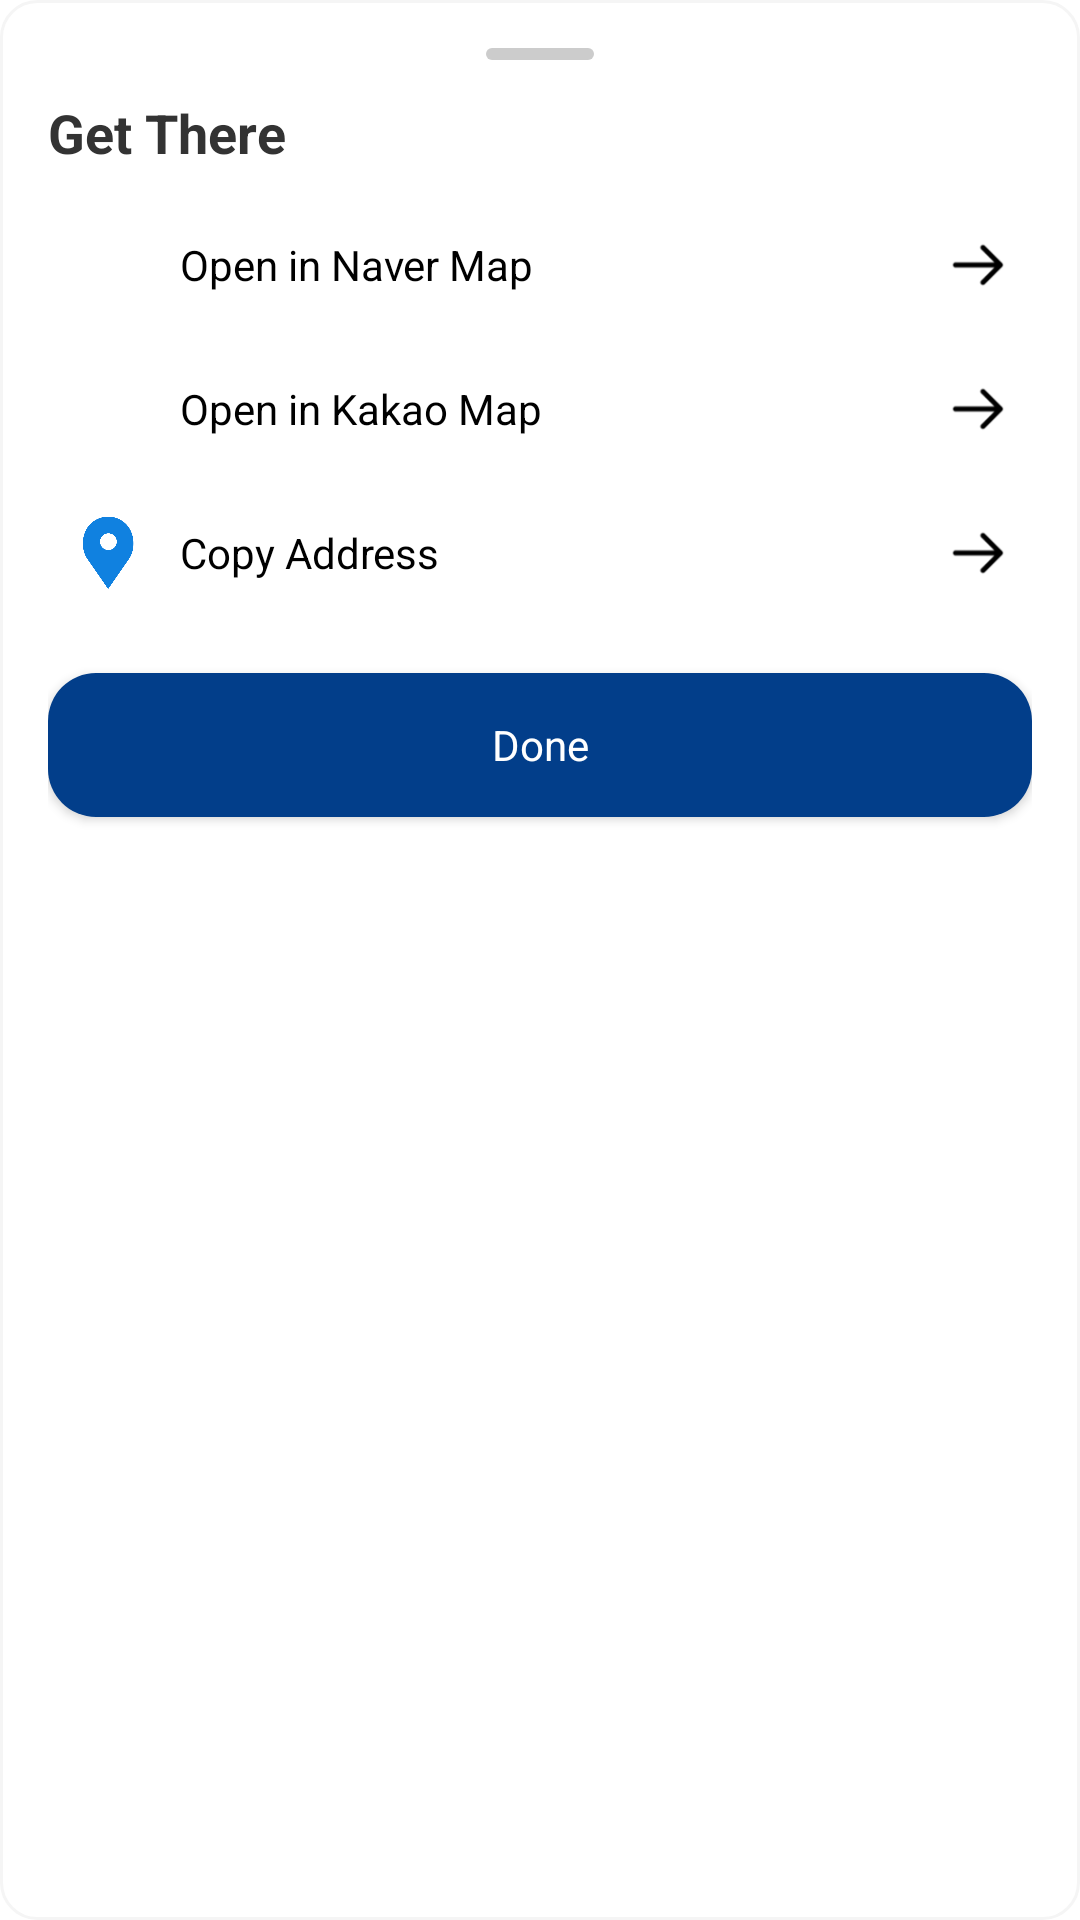

Icons on this 1080w x 1920h Android screen, each with the point to tap as (x,y):
arrow: (978,265), (978,409), (978,553)
location: (108,553)
